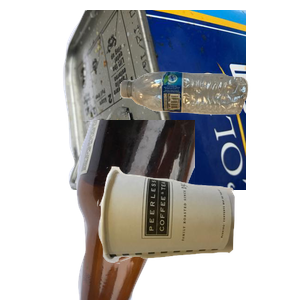glass: (60, 120, 300, 300)
metal: (60, 10, 300, 190)
plastic: (118, 69, 300, 176)
trash: (95, 164, 300, 300)
